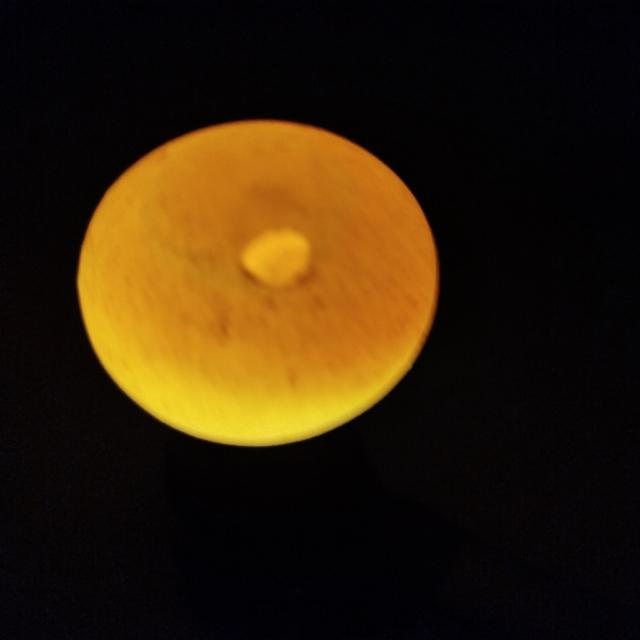Rachadura: (240, 228, 311, 288)
